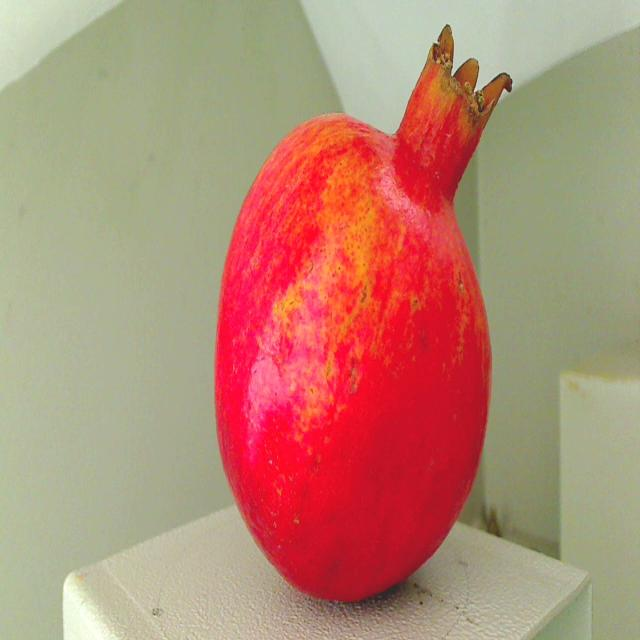pomegranate: (211, 18, 517, 615)
